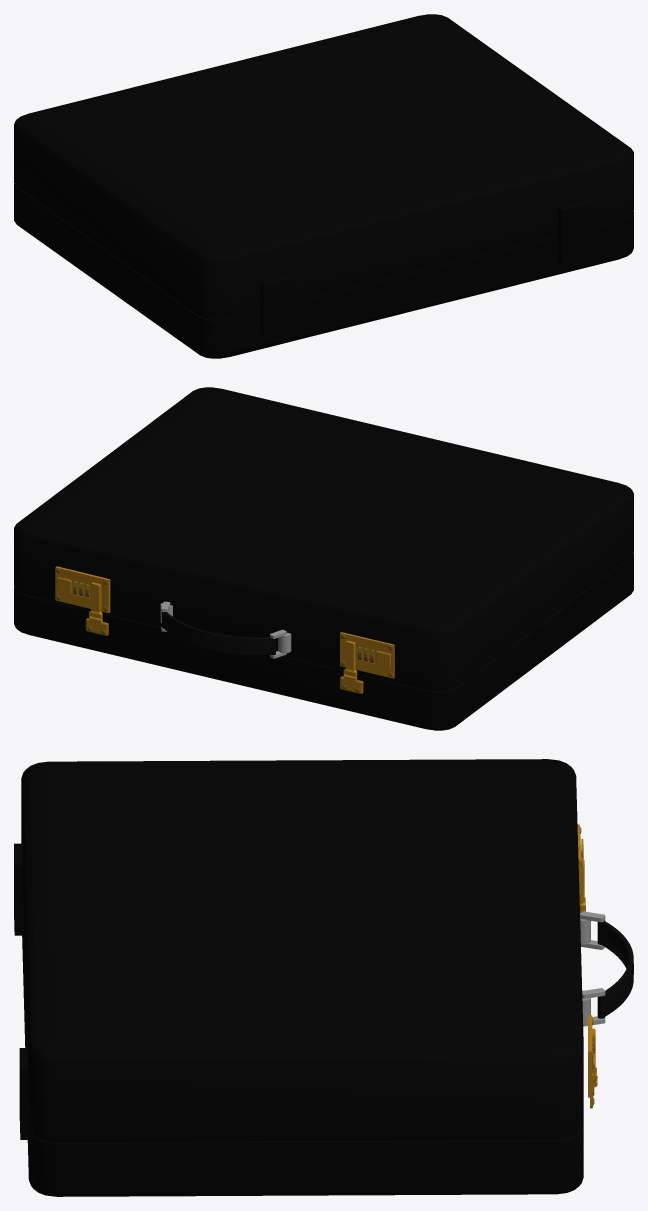
The model's file is Suitcase.fbx.
3 views of the same model, one above another, from view 1: azimuth 30°, elevation 25°; view 2: azimuth 150°, elevation 25°; view 3: azimuth 270°, elevation 25° (orthographic). The views are drawn at different scales.
Parts seen in each view (by area): view 1: Briefcase; view 2: Briefcase; view 3: Briefcase.
Boxes of the visible parts, x1,y1,x2,y2 form: Briefcase: [14, 14, 633, 358]; Briefcase: [14, 387, 633, 730]; Briefcase: [14, 759, 633, 1196].
Bounding box in the file's own units: 82.71 × 19.19 × 72.25.
